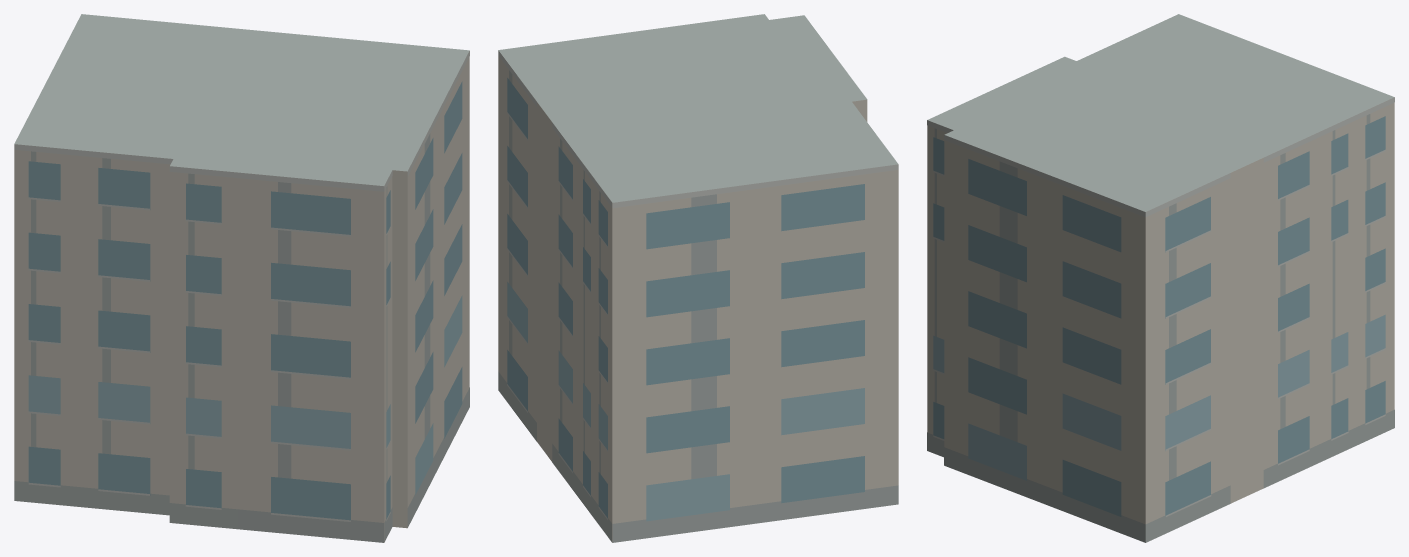
File: survey-upis-32867059.glb
The picture shows the model from 3 angles, left to right: view 1: azimuth 30°, elevation 25°; view 2: azimuth 150°, elevation 25°; view 3: azimuth 270°, elevation 25°; orthographic projection. The views are drawn at different scales.
Parts seen in each view (by area): view 1: survey-upis-32867059.tmp; view 2: survey-upis-32867059.tmp; view 3: survey-upis-32867059.tmp.
Boxes of the visible parts, x1,y1,x2,y2 form: survey-upis-32867059.tmp: (14,14,469,542); survey-upis-32867059.tmp: (498,14,898,542); survey-upis-32867059.tmp: (927,14,1394,542).
Size of the model in its own units: 19.59 by 15.25 by 19.54.
